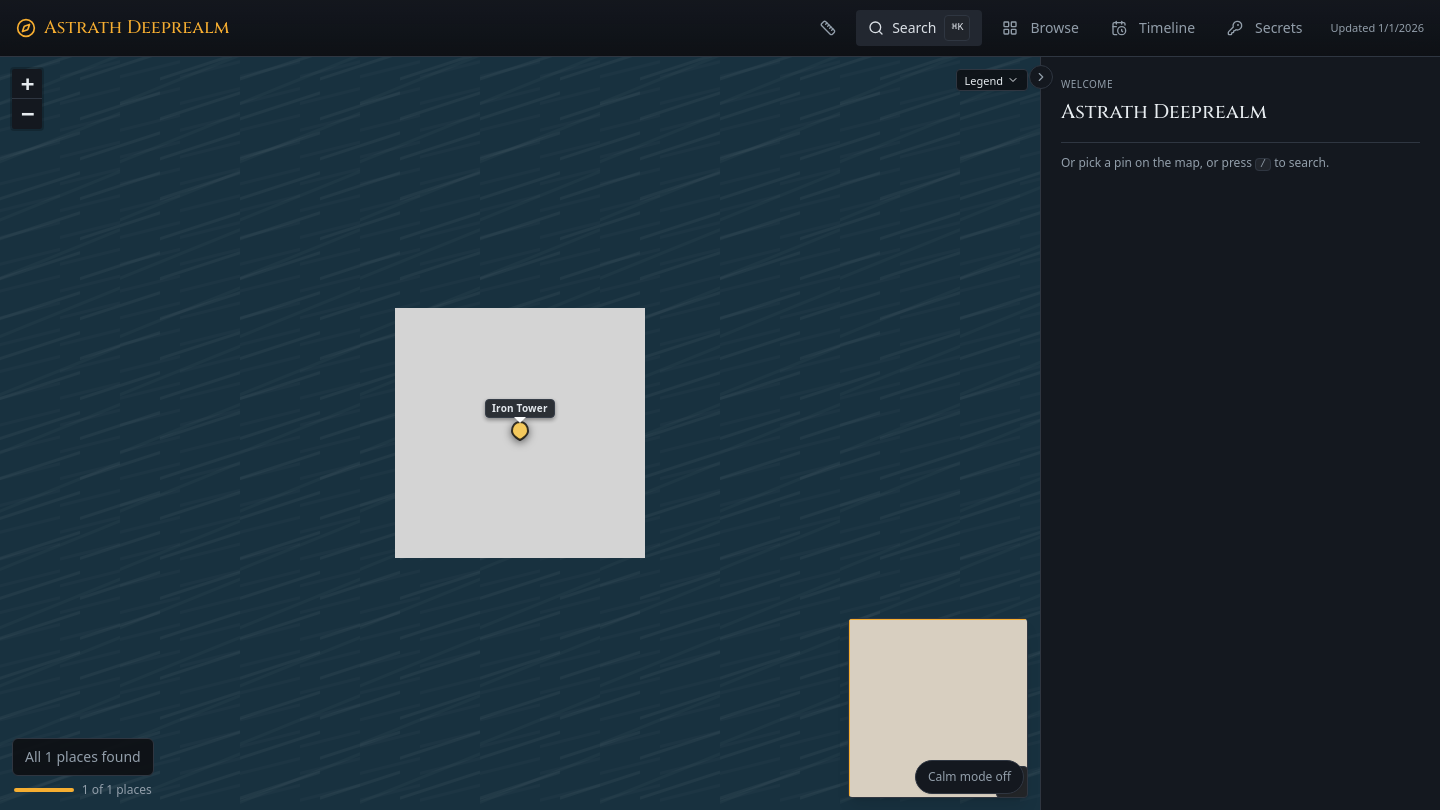
Test: Lazy search-index loading (Q66) › fetches search-index.json once on first search-open, showing a loading state first
Click the button "Search ⌘K": click(919, 28) [856, 10, 982, 46]
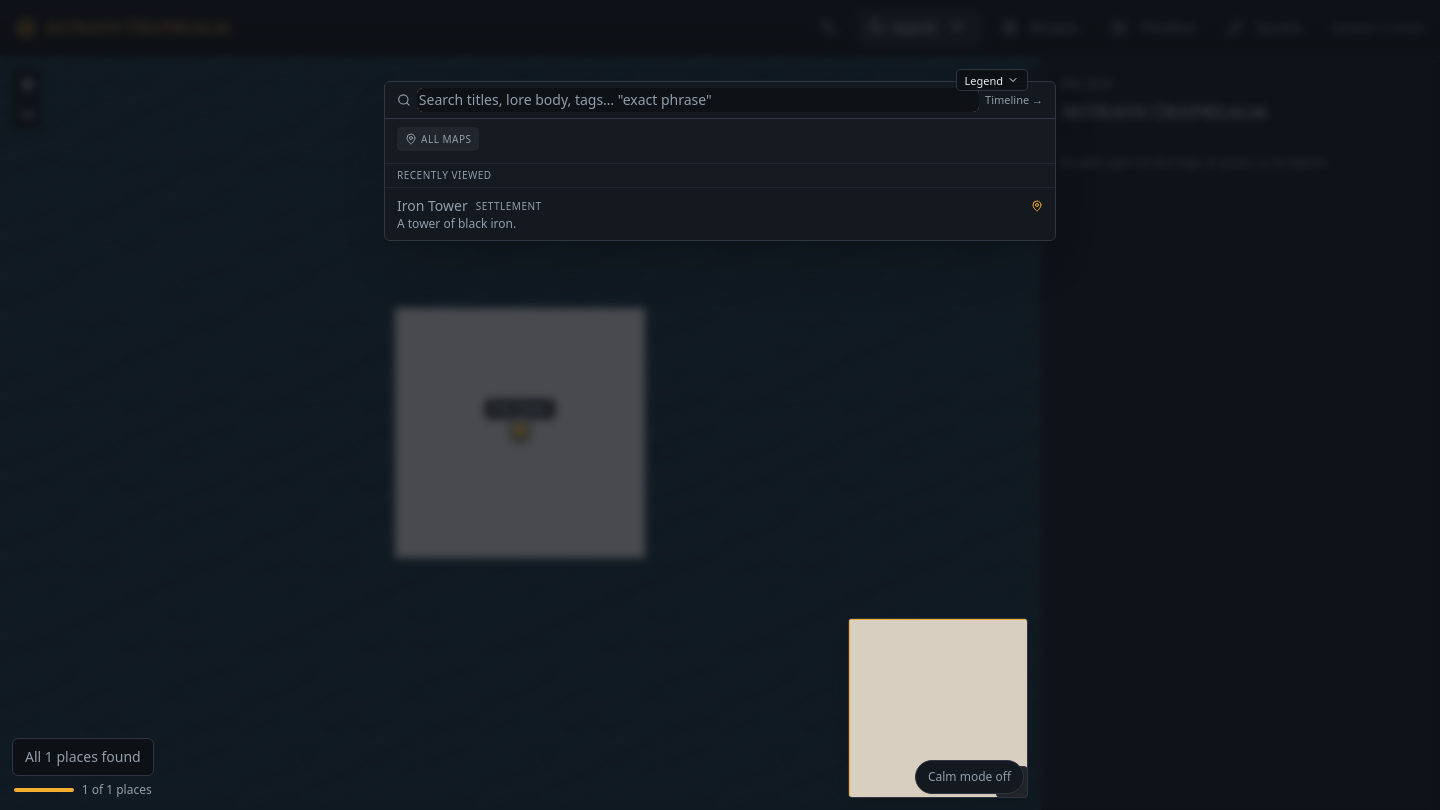
Check: the dialog is shown, box [384, 81, 1056, 241]
